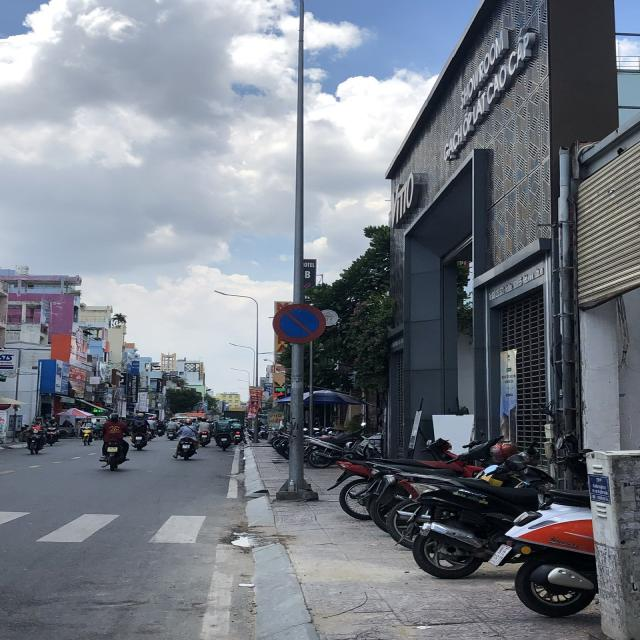Bien bao cam do xe: (272, 299, 330, 347)
